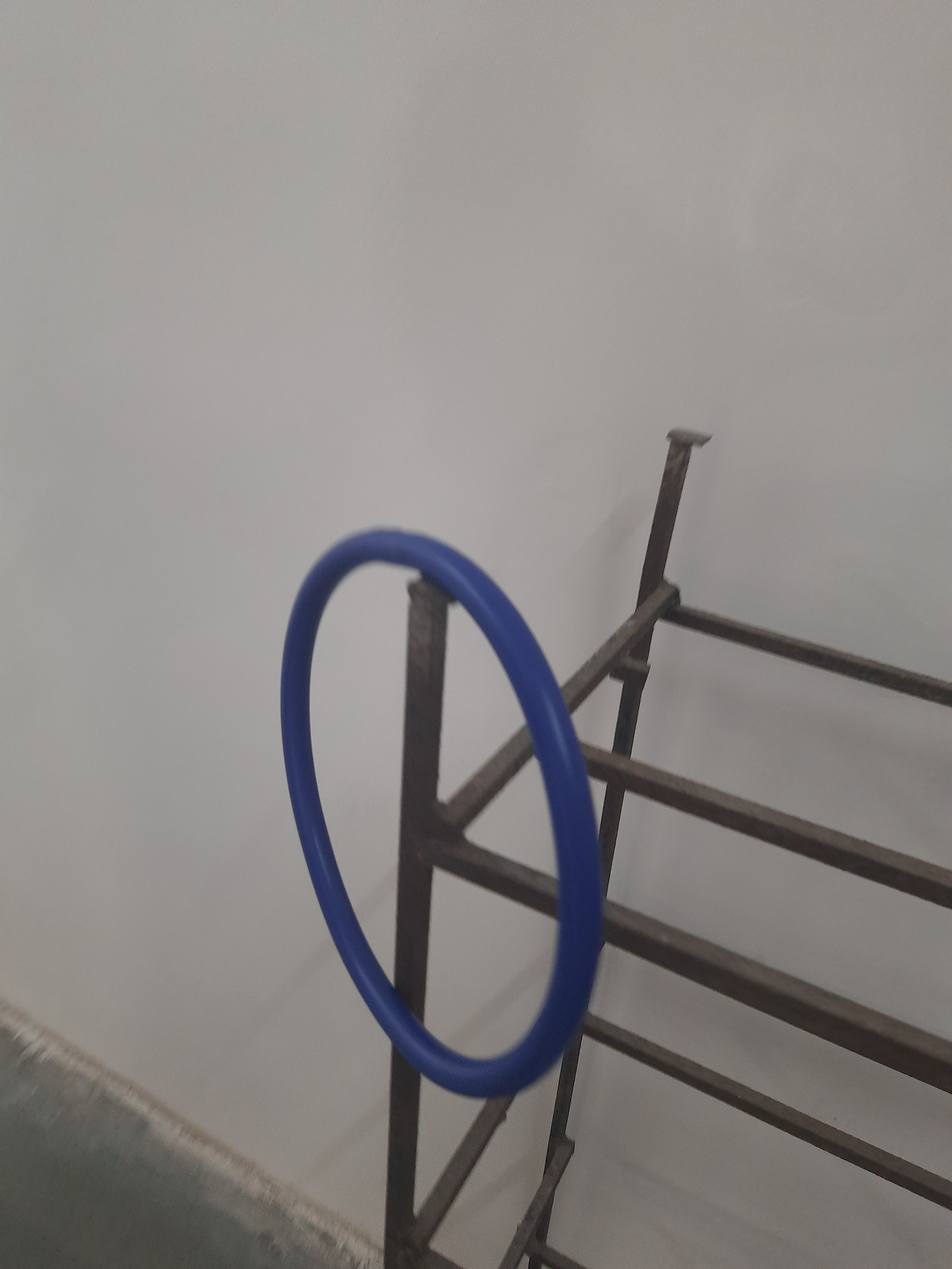Blue ring: (271, 526, 600, 1101)
